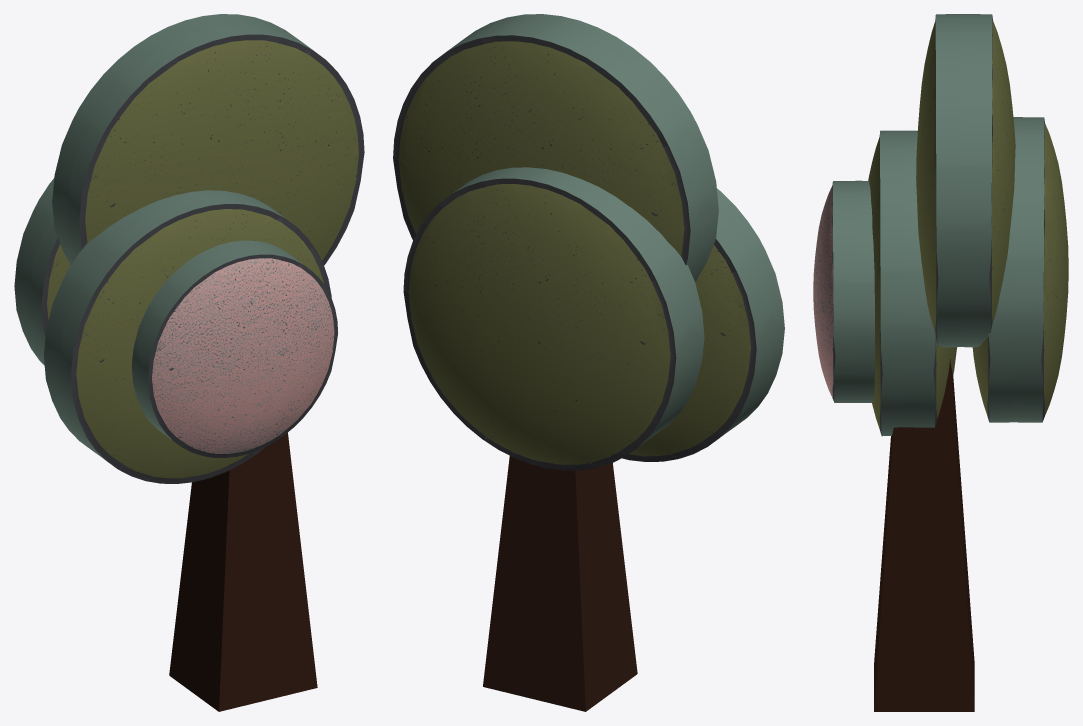
The model's file is Tree 01.fbx.
3 views of the same model, side by side, from view 1: azimuth 30°, elevation 25°; view 2: azimuth 150°, elevation 25°; view 3: azimuth 270°, elevation 25° (orthographic). The views are drawn at different scales.
Parts seen in each view (by area): view 1: tree_43_02, tree_43_01, tree_43_03, tree_43_trunk, tree_43_00; view 2: tree_43_00, tree_43_02, tree_43_trunk, tree_43_03; view 3: tree_43_02, tree_43_trunk, tree_43_00, tree_43_03, tree_43_01.
Boxes of the visible parts, x1,y1,x2,y2 form: tree_43_02: (52,14,364,265); tree_43_01: (131,240,337,457); tree_43_03: (44,190,331,483); tree_43_trunk: (169,432,317,711); tree_43_00: (14,178,70,365); tree_43_00: (403,167,704,470); tree_43_02: (393,14,718,282); tree_43_trunk: (483,456,637,711); tree_43_03: (622,188,784,461); tree_43_02: (916,14,1015,347); tree_43_trunk: (874,359,974,711); tree_43_00: (972,117,1068,422); tree_43_03: (868,130,956,436); tree_43_01: (813,180,874,402).
Size of the model in its own units: 13.46 by 25.76 by 9.18.
